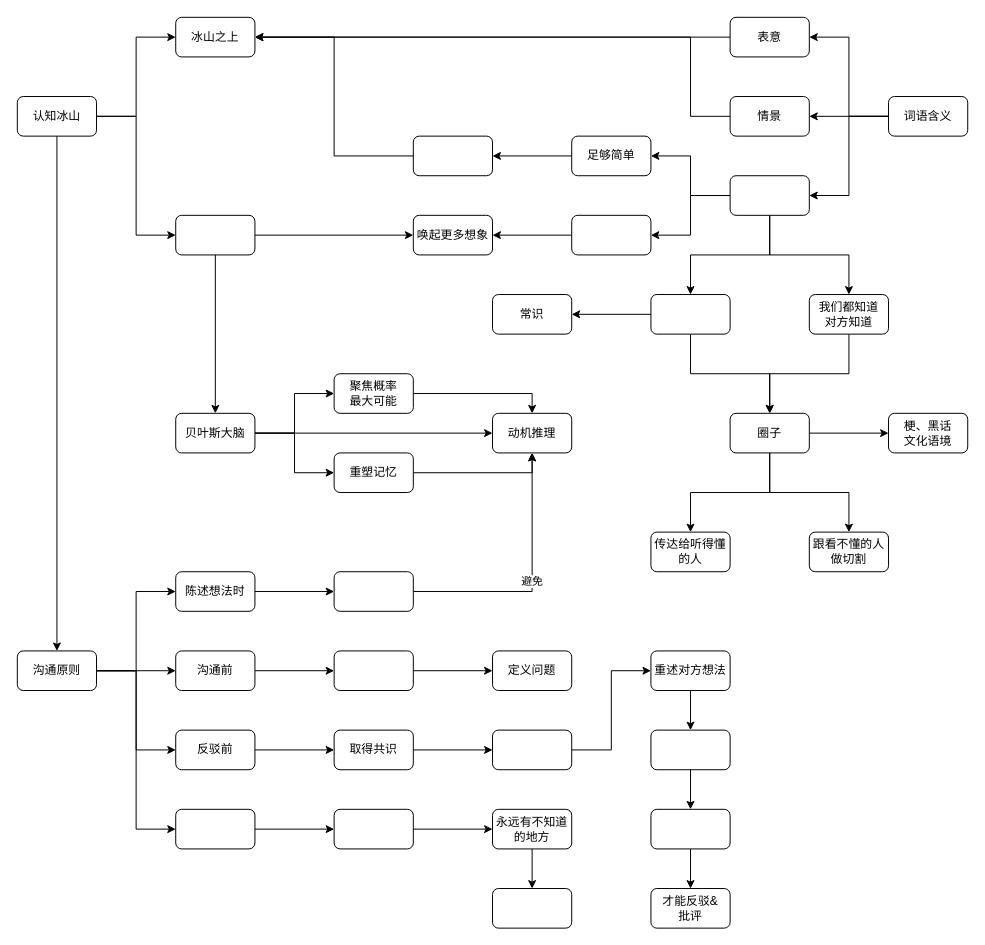
This 985x945 diagram has some shape labels left out. The shapes that lost their labels are listed below. From the top down, each one's centre as x and y in pixels, then its label:
(x=452, y=155): 任何人都懂
(x=769, y=195): 共识
(x=215, y=234): 冰上之下
(x=611, y=234): 足够复杂
(x=690, y=314): 我们都知道
(x=373, y=591): 描述性语句
(x=373, y=670): 明确讨论 的概念
(x=532, y=749): 拉波波特法则
(x=690, y=749): 列出同意部分
(x=215, y=828): 认识到
(x=373, y=828): 认知是一座 冰山
(x=690, y=828): 提到学到东西
(x=532, y=908): 谦卑，包容，接纳
